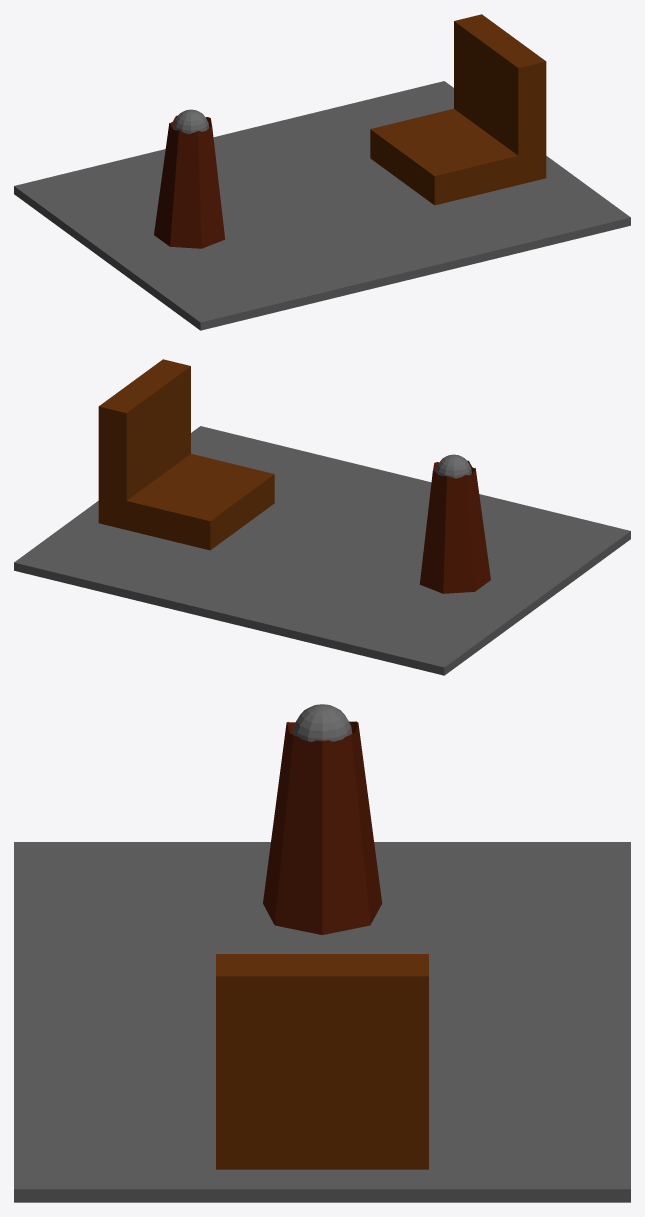
The model's file is base balestra.fbx.
The picture shows the model from 3 angles, top to bottom: view 1: azimuth 30°, elevation 25°; view 2: azimuth 150°, elevation 25°; view 3: azimuth 270°, elevation 25°; orthographic projection. The views are drawn at different scales.
Parts seen in each view (by area): view 1: pCube1, pCube2, pCylinder3; view 2: pCube1, pCube2, pCylinder3; view 3: pCube1, pCube2, pCylinder3.
Part boxes in pixels (x1,y1,x2,y2): pCube1: [14, 81, 630, 330]; pCube2: [370, 14, 546, 205]; pCylinder3: [154, 109, 225, 248]; pCube1: [14, 426, 630, 675]; pCube2: [98, 359, 274, 550]; pCylinder3: [419, 454, 490, 593]; pCube1: [14, 842, 630, 1202]; pCube2: [216, 954, 428, 1169]; pCylinder3: [263, 704, 382, 934].
Bounding box in the file's own units: 3.86 × 1.12 × 2.89.
